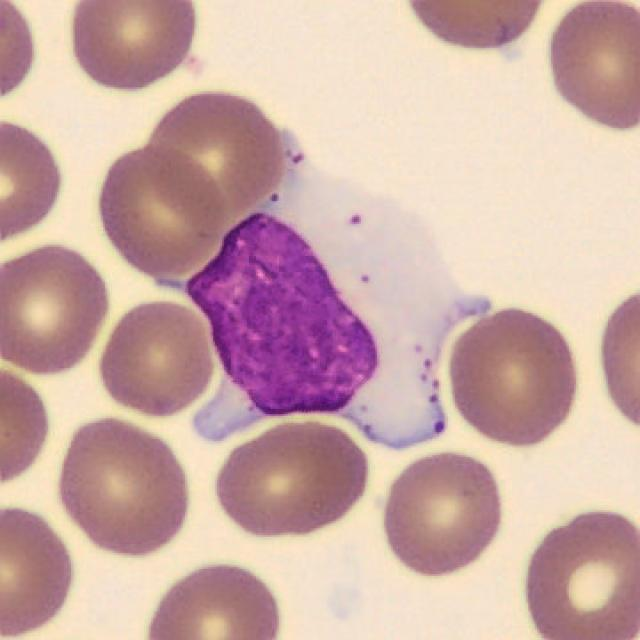Linfocito atipico: (153, 137, 485, 448)
